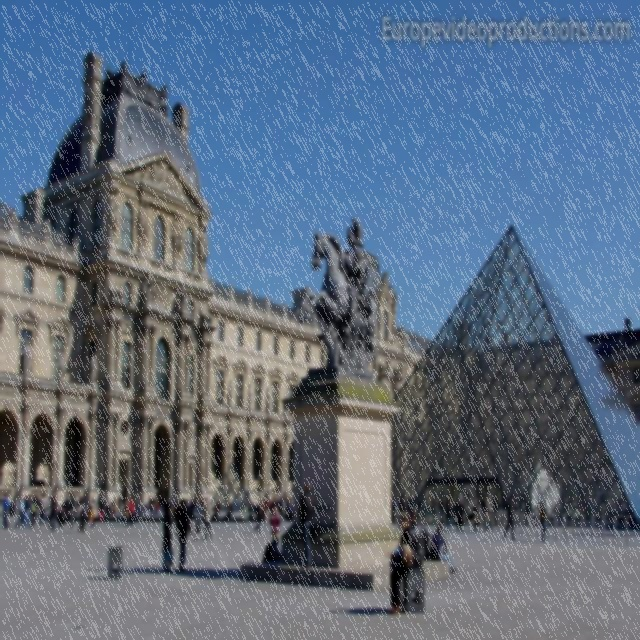pessoa: (297, 208, 378, 375), (387, 511, 419, 616), (136, 152, 187, 198), (325, 596, 405, 620), (297, 480, 315, 571), (138, 268, 171, 308), (175, 498, 192, 575), (390, 487, 422, 523), (134, 198, 154, 254), (407, 506, 424, 570), (161, 500, 174, 575), (186, 494, 206, 542), (376, 269, 397, 313), (209, 494, 242, 522), (171, 208, 187, 261), (196, 218, 210, 273), (428, 524, 448, 562), (503, 490, 516, 541), (134, 61, 150, 100), (108, 181, 120, 232), (174, 278, 190, 316), (262, 534, 282, 564), (202, 496, 214, 544), (88, 347, 101, 391), (268, 502, 282, 542), (537, 496, 548, 546), (118, 55, 132, 92), (479, 494, 492, 531), (419, 521, 431, 561), (54, 342, 66, 382), (23, 336, 35, 376), (0, 490, 11, 531), (158, 78, 170, 115), (142, 492, 160, 516), (86, 494, 98, 530), (280, 491, 294, 521), (76, 494, 86, 535), (13, 491, 24, 528), (5, 200, 19, 228), (455, 496, 465, 534), (252, 497, 262, 535), (29, 490, 39, 528), (38, 491, 48, 528), (41, 212, 54, 240), (224, 372, 233, 410), (59, 491, 69, 524), (16, 482, 25, 518), (263, 384, 273, 416), (54, 502, 66, 528), (471, 496, 479, 534), (48, 496, 56, 534), (22, 492, 30, 530), (396, 320, 406, 350), (68, 488, 75, 530), (466, 496, 474, 532), (444, 498, 452, 532), (262, 492, 270, 526), (280, 386, 288, 419), (240, 501, 250, 527), (133, 498, 143, 524), (246, 378, 253, 414), (70, 230, 82, 250), (101, 501, 111, 524), (127, 496, 134, 528), (97, 494, 105, 522), (398, 357, 406, 385), (72, 493, 82, 514), (227, 280, 235, 304), (279, 298, 288, 318), (123, 499, 129, 528), (247, 502, 254, 526), (109, 490, 116, 512), (269, 495, 281, 507), (452, 492, 459, 512), (245, 284, 252, 304), (116, 491, 122, 514), (264, 292, 270, 314), (172, 500, 180, 516), (258, 497, 263, 521), (418, 338, 426, 352), (512, 492, 518, 509), (55, 492, 58, 509), (252, 498, 257, 506)
